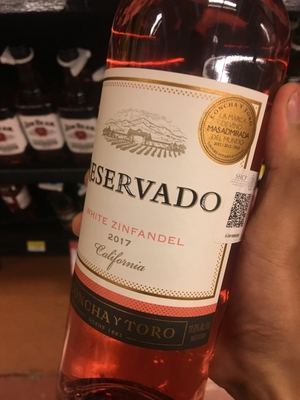reservado white zinfandel: (67, 1, 283, 392)
